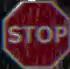Stop: (1, 0, 69, 68)
